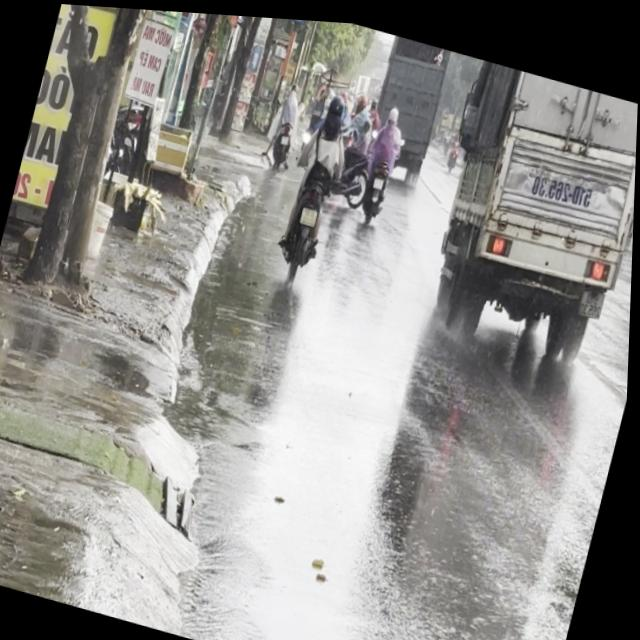helmet: (327, 85, 349, 113)
licenseplate: (271, 75, 362, 283)
nohelmet: (301, 201, 320, 221)
